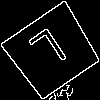L: (27, 26, 75, 80)
